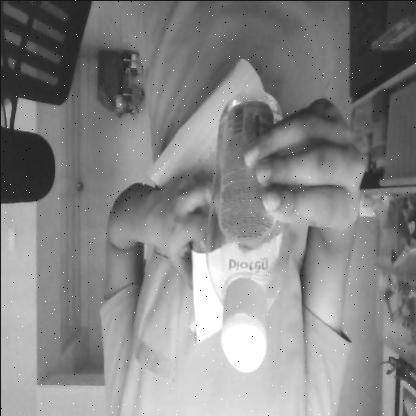Plastic Bottle: (202, 83, 285, 376)
